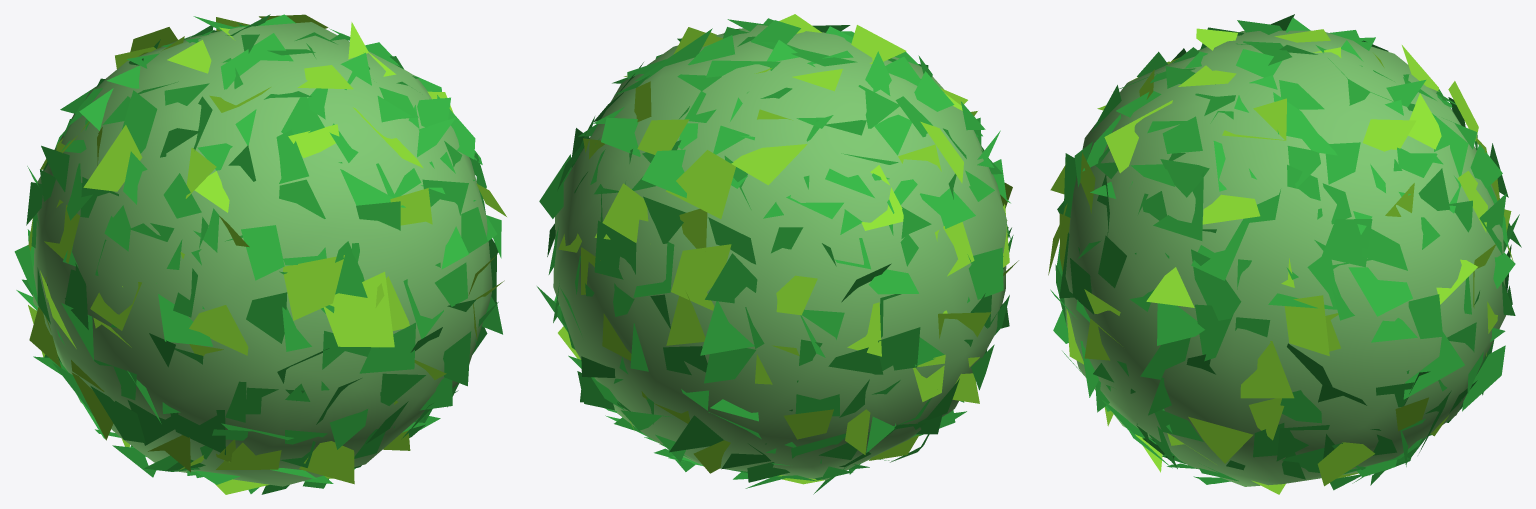
Rendered from bush_2.fbx.
3 renders of one model, left to right at view 1: azimuth 30°, elevation 25°; view 2: azimuth 150°, elevation 25°; view 3: azimuth 270°, elevation 25°, orthographic.
Visible parts, largest first — view 1: Cube; view 2: Cube; view 3: Cube.
Part boxes in pixels (box(x1,y1,x2,y2)): Cube: box(14, 14, 506, 494); Cube: box(537, 14, 1018, 494); Cube: box(1048, 14, 1521, 494).
Size of the model in its own units: 177 by 179 by 176.
